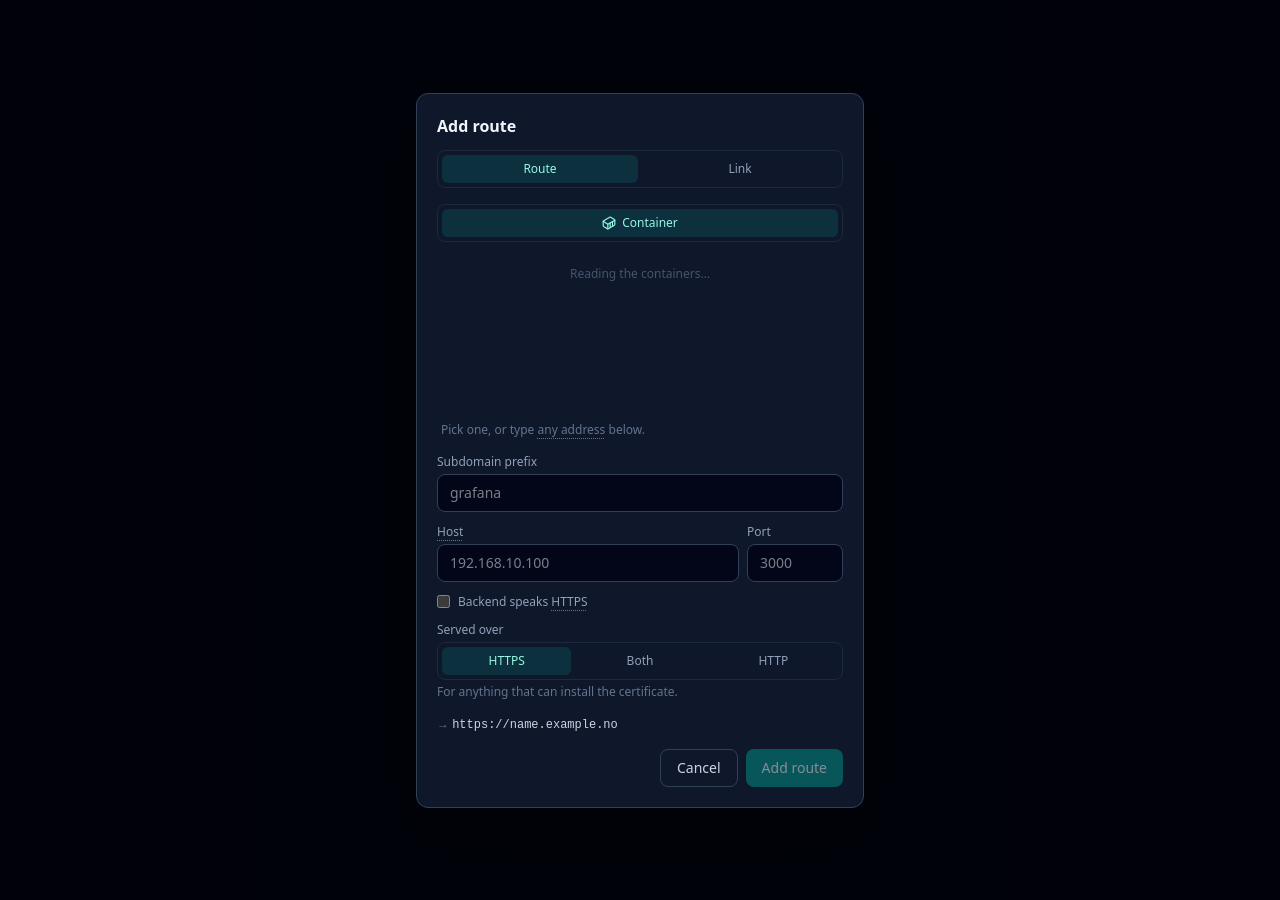
Test: explains an invalid prefix rather than just disabling the button
Type "-nope-" into the field with placeholder "grafana" at (640, 492), box [437,474,843,512]
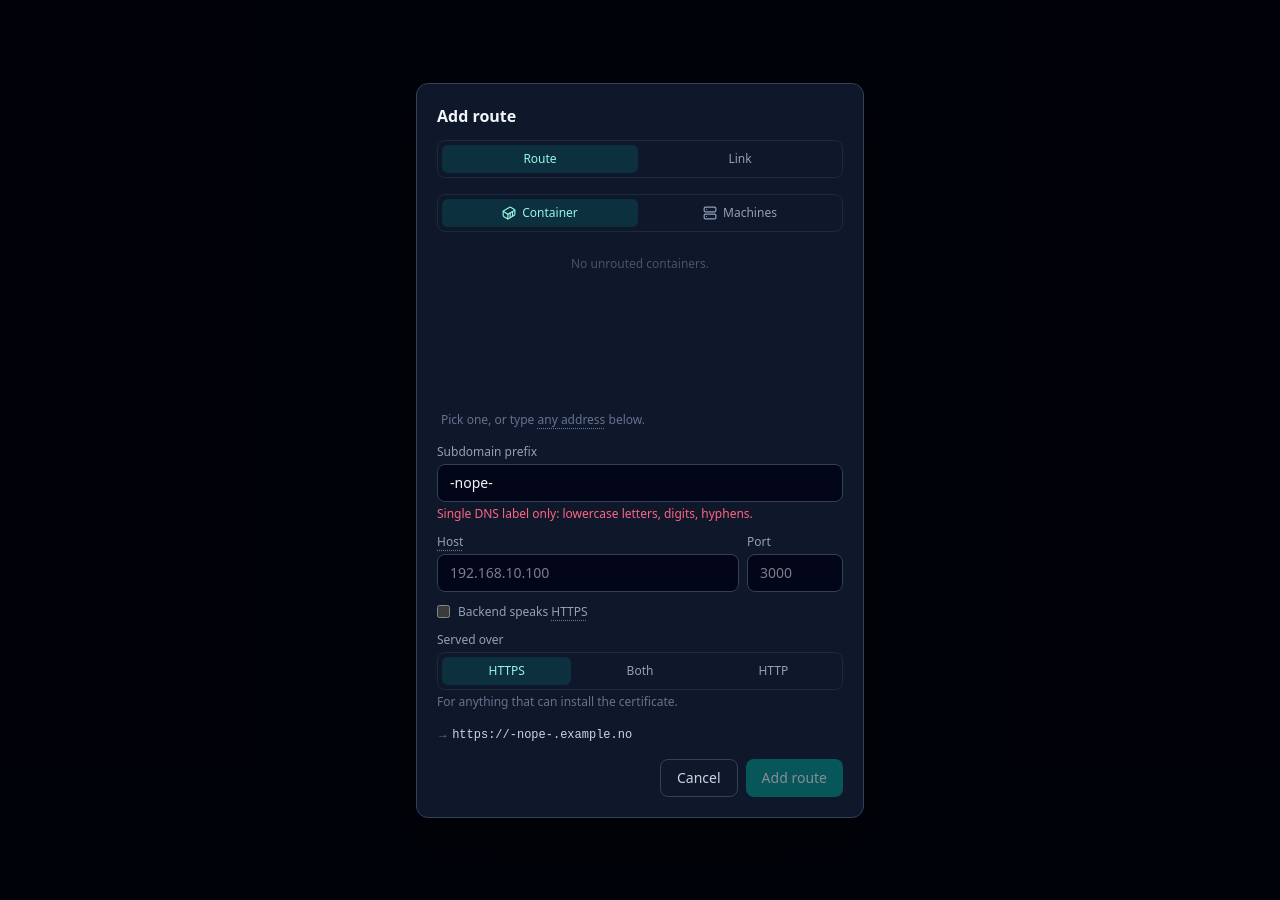
Check: the button "Add route" is disabled, box [746,758,843,796]
Check: the text "Single DNS label only: lowercase letters, digits, hyphens." is shown, box [437,504,753,522]
